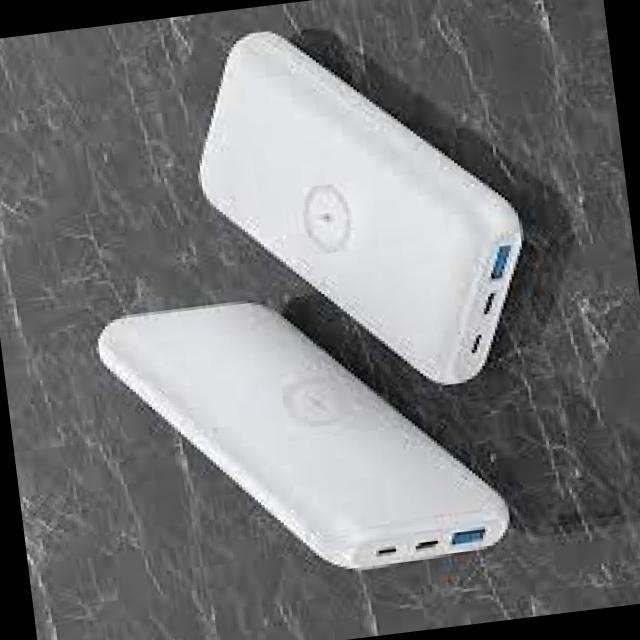power_bank: (170, 0, 548, 414), (84, 256, 524, 602)
